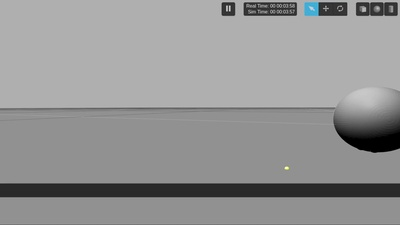mira_robot: (334, 87, 400, 155)
